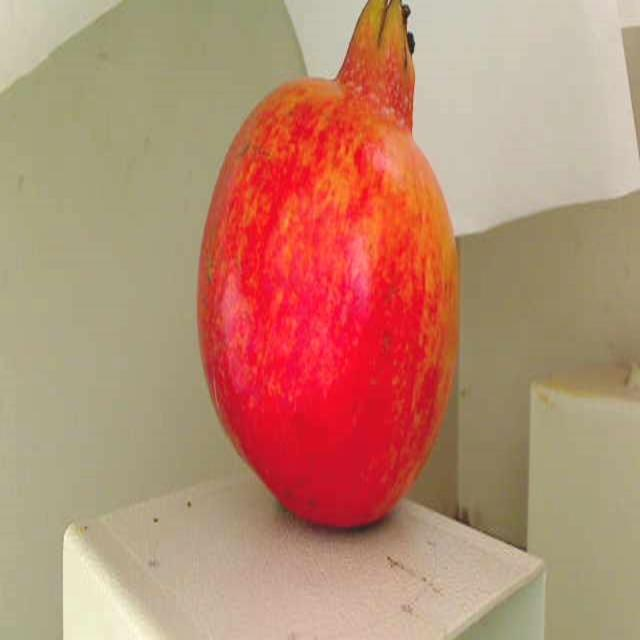pomegranate: (194, 0, 468, 547)
